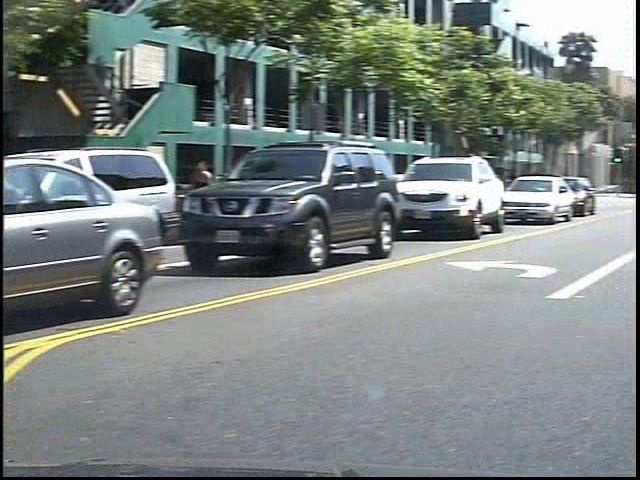person: (202, 154, 231, 232)
